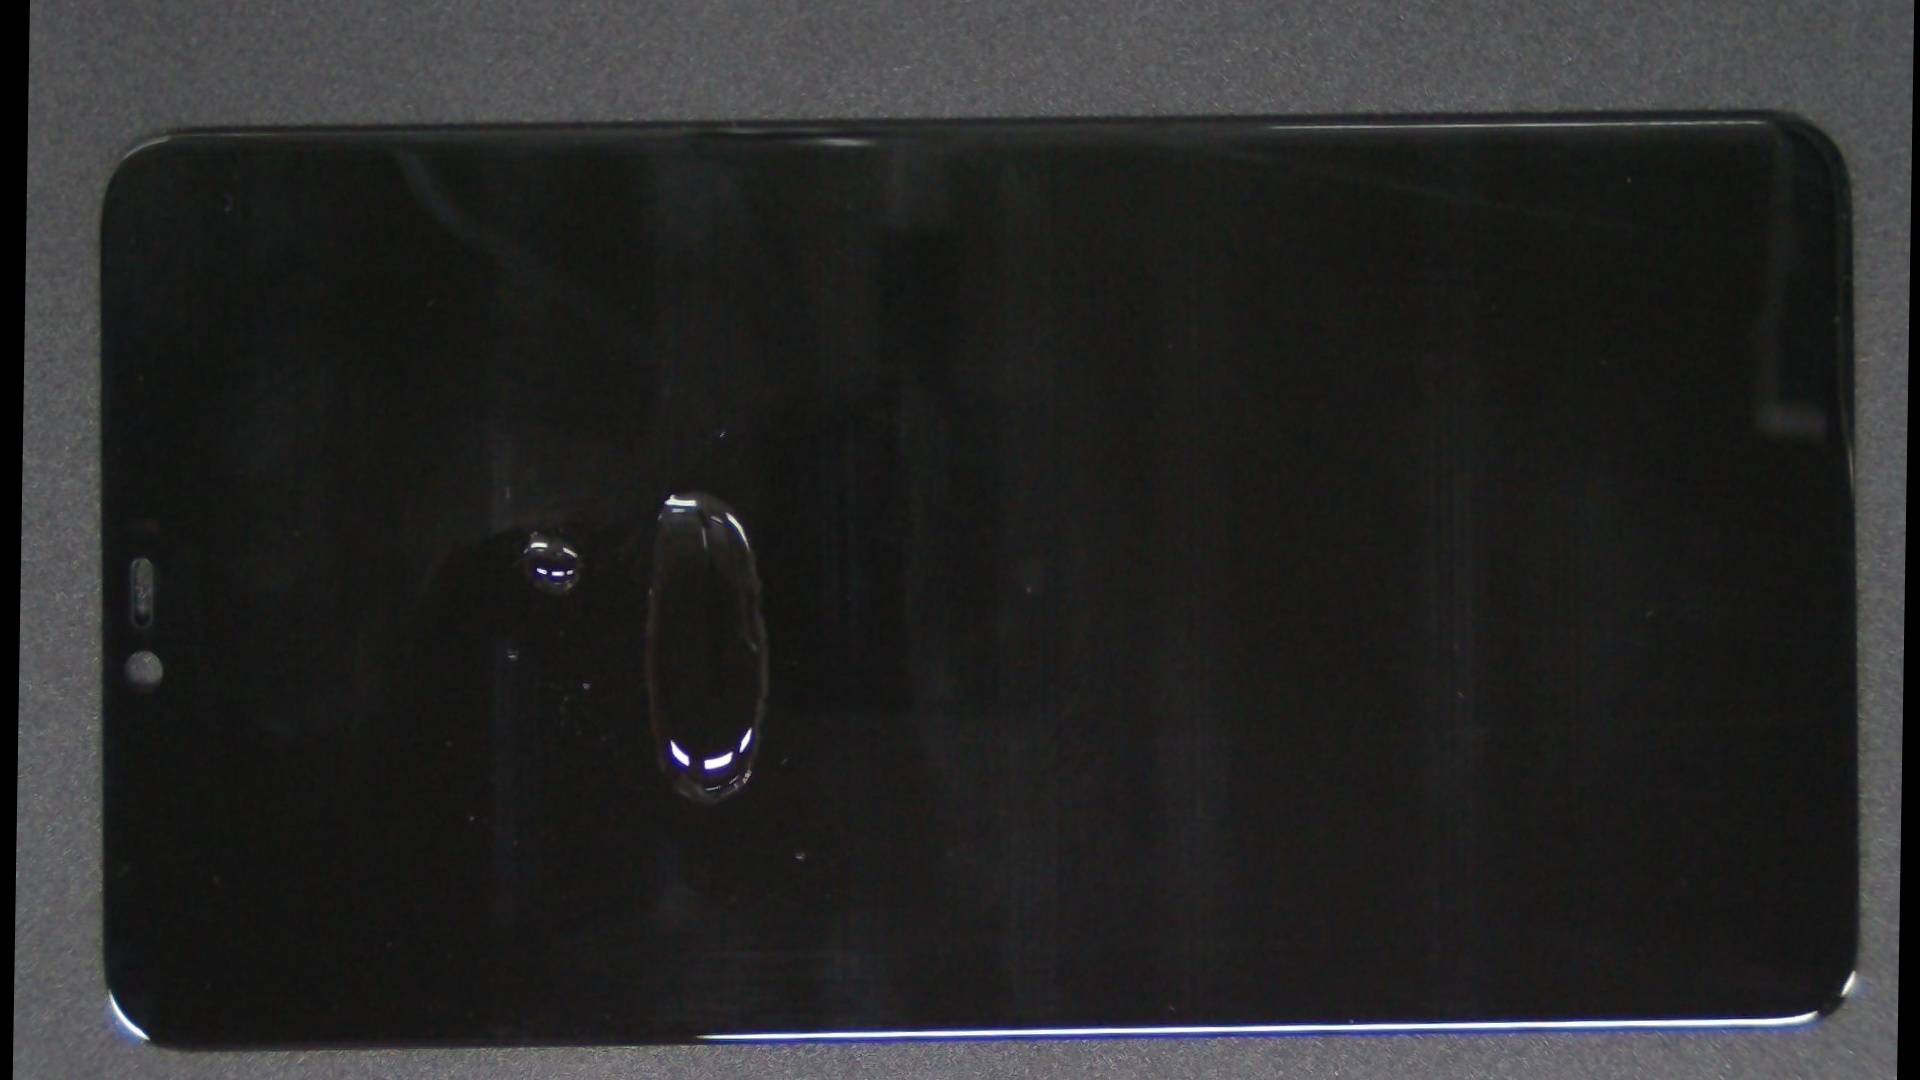oil: (353, 229, 1031, 752), (274, 249, 795, 811)
